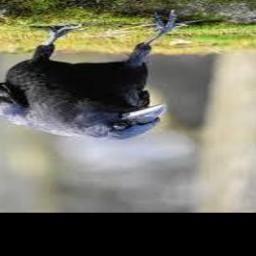Crow: (0, 10, 198, 140)
